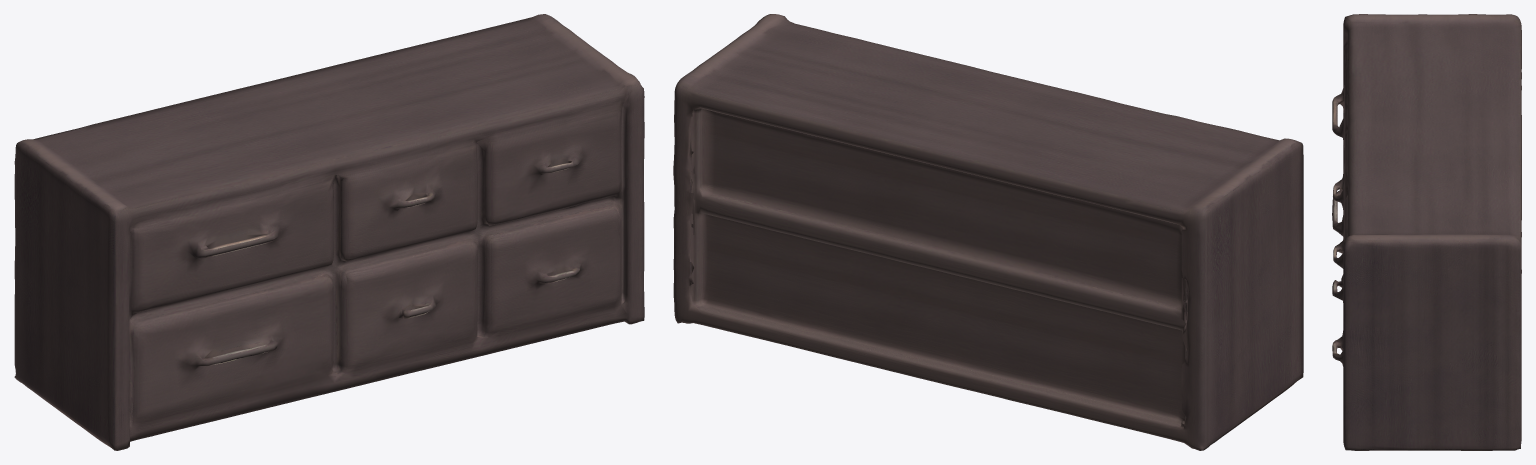
Rendered from Six_Drawer_Dresser.glb.
The picture shows the model from 3 angles, left to right: view 1: azimuth 30°, elevation 25°; view 2: azimuth 150°, elevation 25°; view 3: azimuth 270°, elevation 25°; orthographic projection. The views are drawn at different scales.
Size of the model in its own units: 1.91 by 0.8269 by 0.6715.
1 material, 1 textured.
